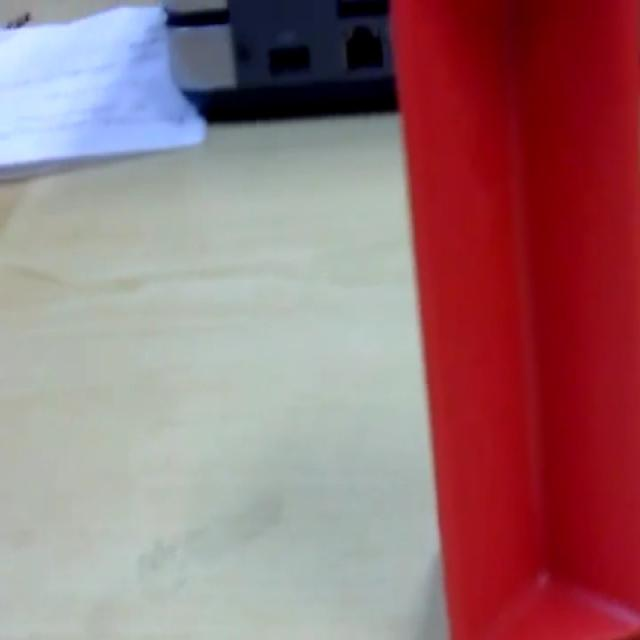red_block: (388, 1, 638, 636)
